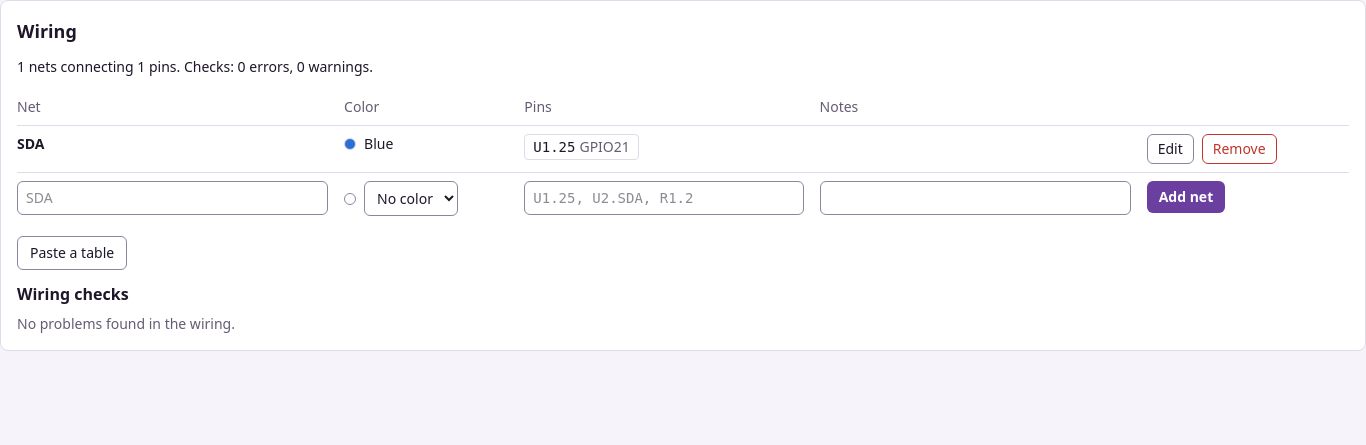
Test: the netlist editor › offers designators, then a part's pins, picked with the arrows and Enter
Type "u" into the dropdown named "Pins" at (664, 198), box [524,181,804,215]
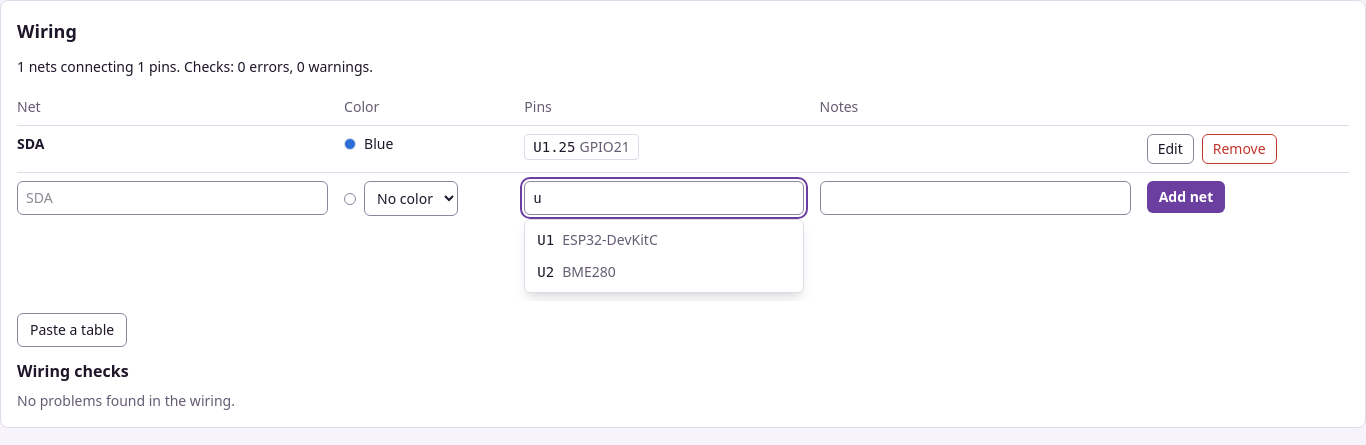
Expected: the option "U1 ESP32-DevKitC" is shown, [537,230,658,249]
Press Arrowdown Enter
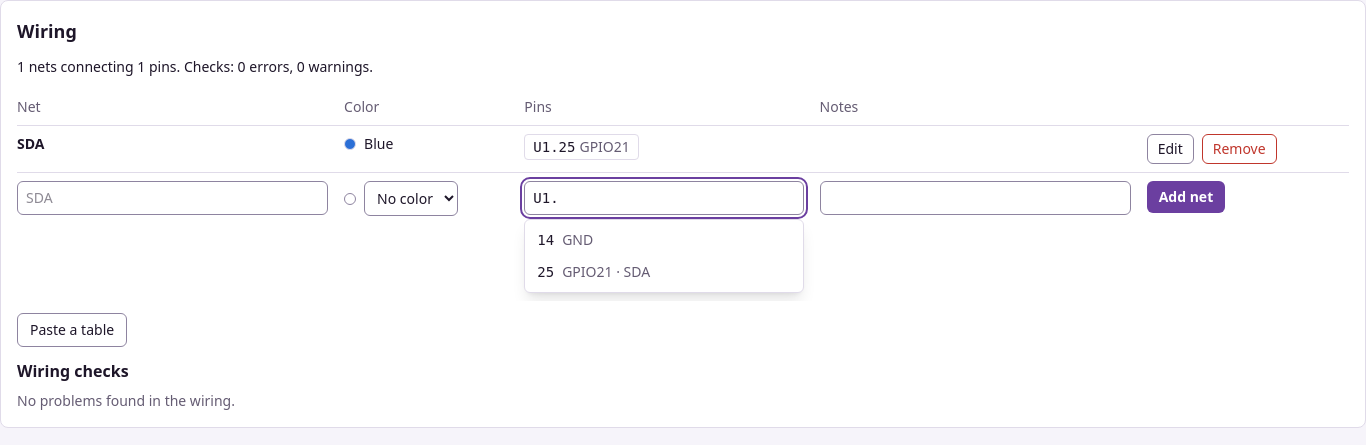
Expected: the 2nd dropdown named "Pins" holds "U1."
Type "sd" into the 2nd dropdown named "Pins" at (664, 198), box [524,181,804,215]
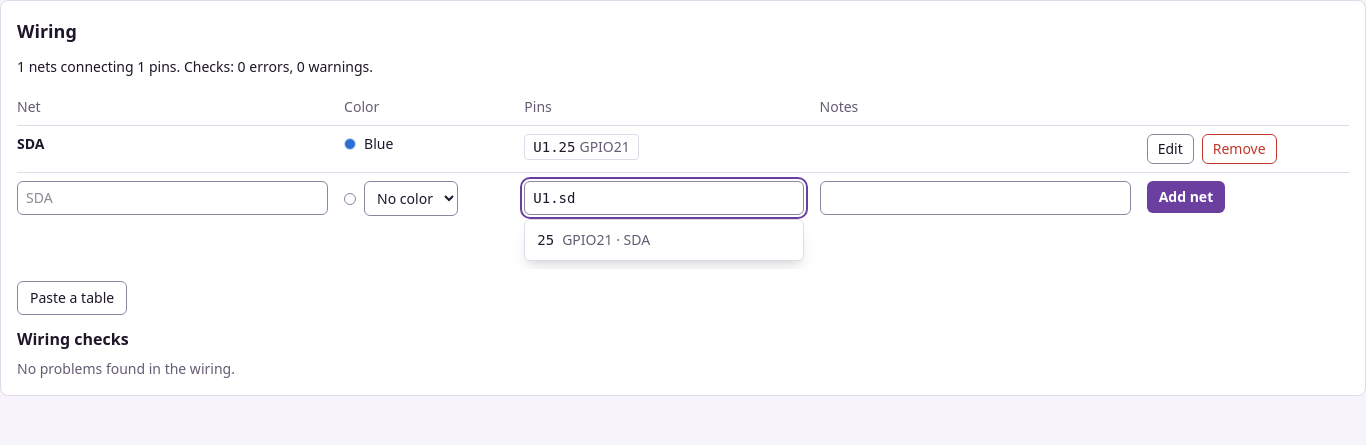
Expected: the option "25 GPIO21 · SDA" is shown, [537,230,650,249]
Press Arrowdown Enter
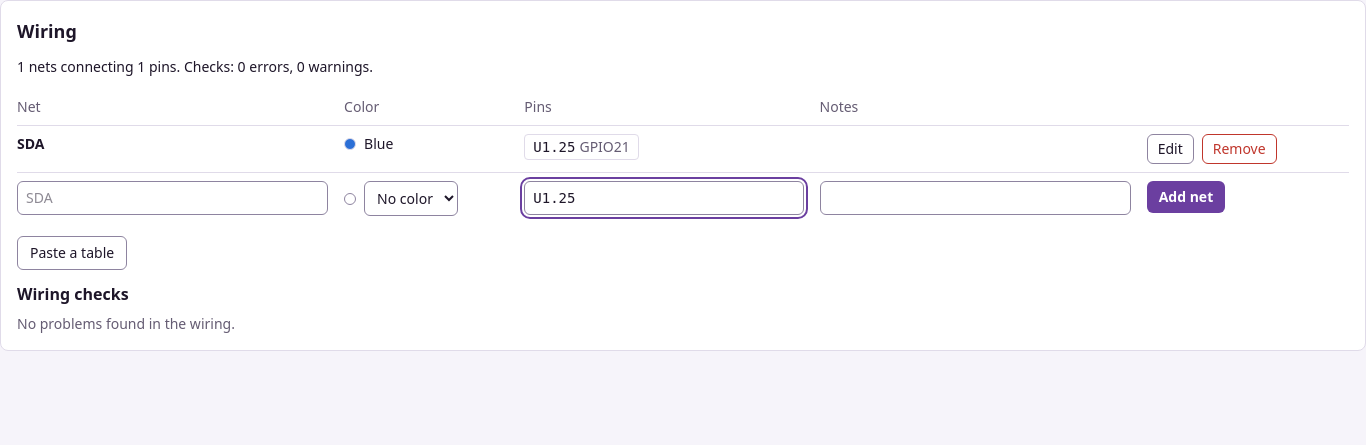
Expected: the 2nd dropdown named "Pins" holds "U1.25", [524,181,804,215]
Expected: the 2nd dropdown named "Pins" is collapsed, [524,181,804,215]
